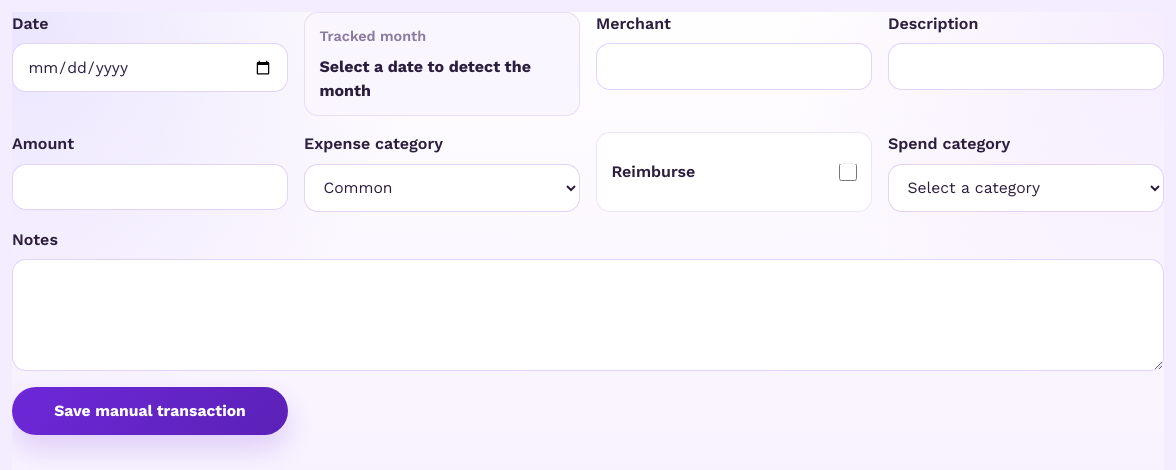
it: manual entry disables reimburse for personal expenses
The image size is (1176, 470).
Expected: the checkbox labelled "Reimburse" is enabled, [839,163,857,181]
Select "Personal" in the dropdown labelled "Expense category" at x=442, y=188, box [304,164,580,212]
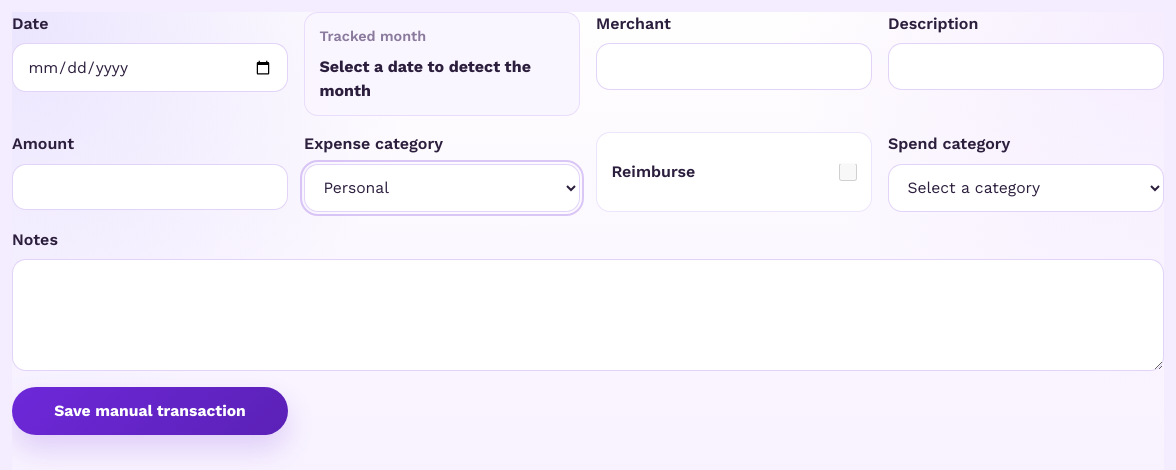
Expected: the checkbox labelled "Reimburse" is not checked, [839,163,857,181]
Expected: the checkbox labelled "Reimburse" is disabled, [839,163,857,181]
